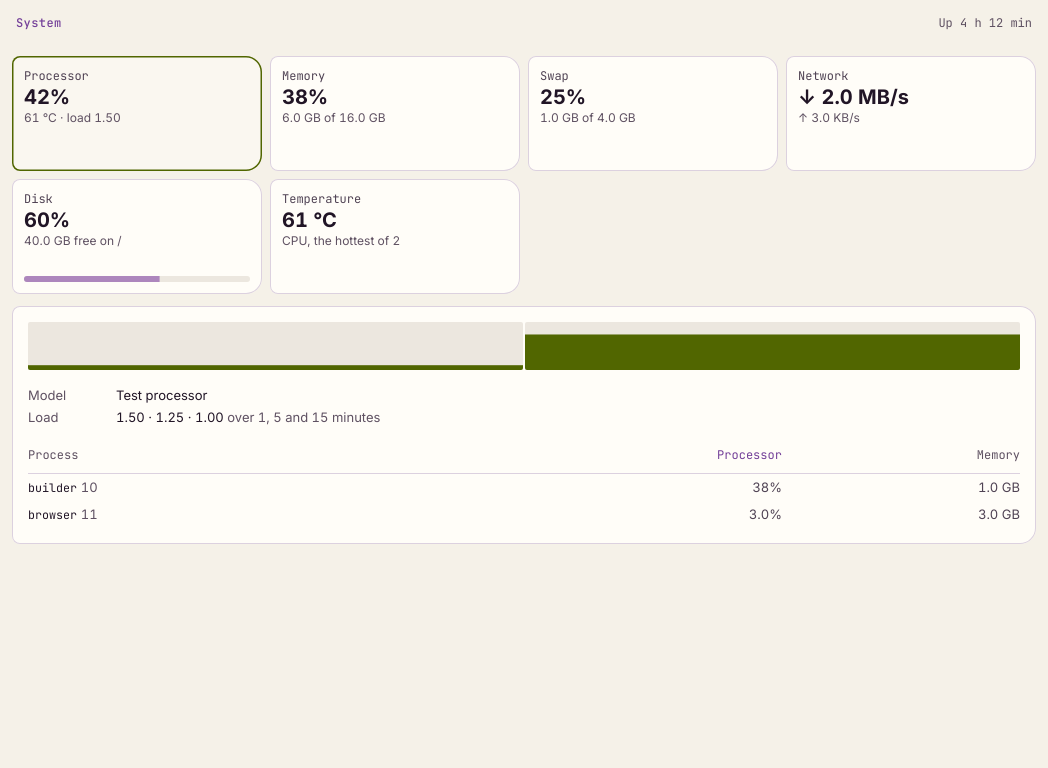
Test: goes back to the processor when what was open is no longer read
Step 1. Click the button "Temperature 61 °C CPU, the hottest of 2" → {"x": 395, "y": 236}, box [270,179,520,294]
Wait 2000 ms
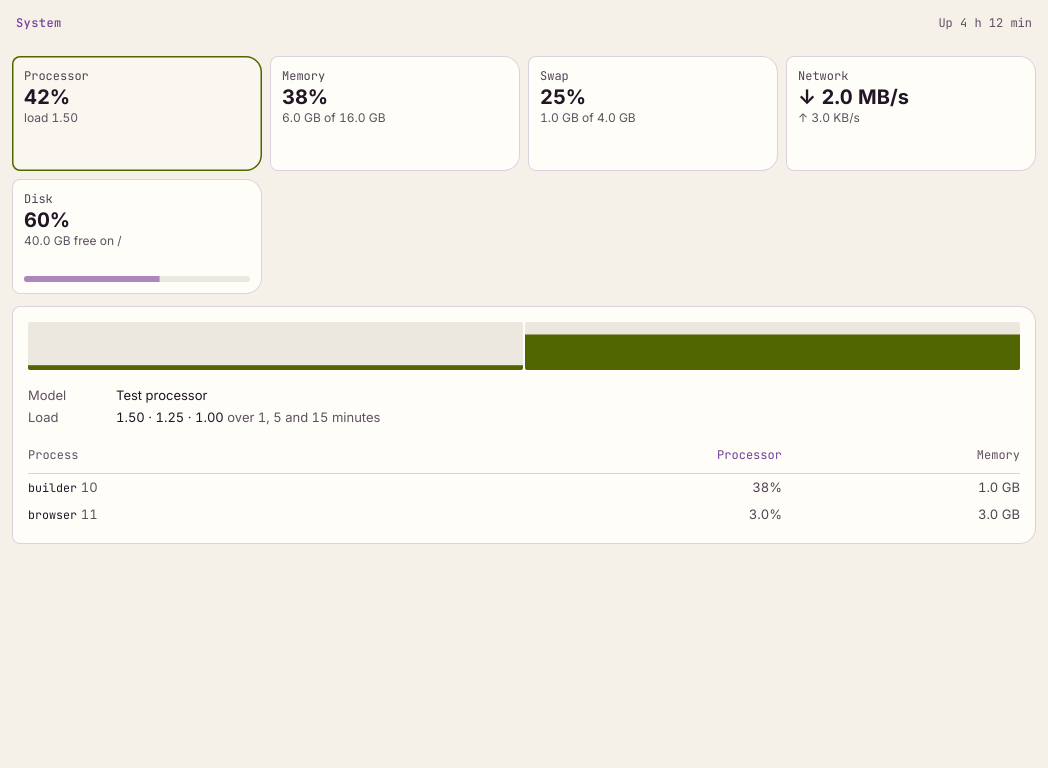
Check: the table named "Busiest processes" is shown, box [28,443,1020,528]
Check: the button "Temperature" is gone
